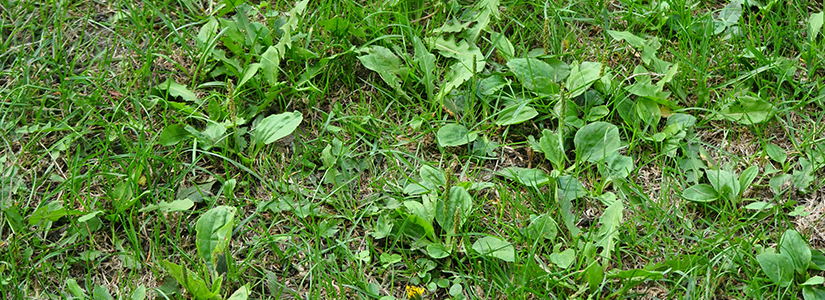crabgrass: (8, 35, 137, 289), (684, 15, 810, 129)
